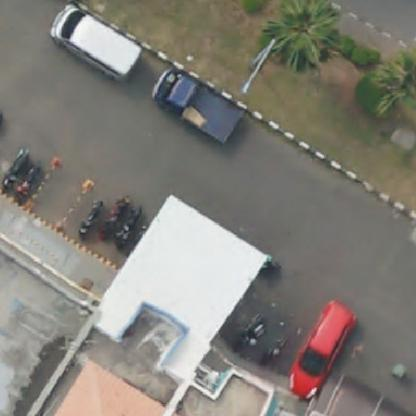Car: (48, 1, 150, 81), (152, 67, 244, 148), (288, 302, 356, 396)
Motorcycle: (72, 196, 104, 244), (115, 205, 146, 251), (231, 316, 266, 352), (254, 249, 289, 278), (2, 146, 24, 190), (18, 166, 38, 204), (104, 194, 121, 231), (266, 338, 282, 369)
